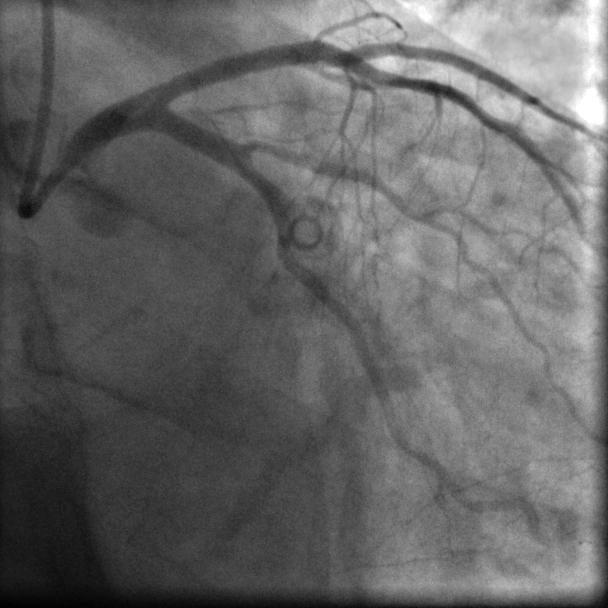Stenosis: (240, 132, 278, 164)
